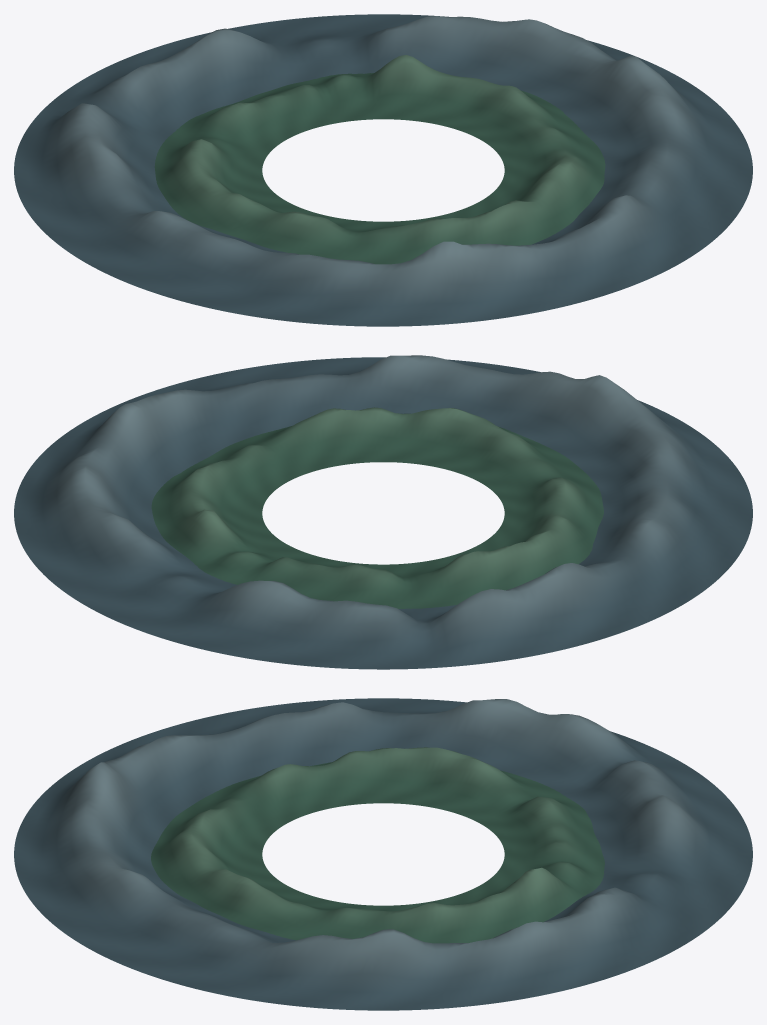
File: river-mountains-low.glb
3 views of the same model, one above another, from view 1: azimuth 30°, elevation 25°; view 2: azimuth 150°, elevation 25°; view 3: azimuth 270°, elevation 25° (orthographic).
Visible parts, largest first — view 1: Distant mountain ridgeline, Wooded mountain foothills; view 2: Distant mountain ridgeline, Wooded mountain foothills; view 3: Distant mountain ridgeline, Wooded mountain foothills.
Part boxes in pixels (x1=…): Distant mountain ridgeline: x1=14, y1=14, x2=752, y2=326; Wooded mountain foothills: x1=154, y1=55, x2=605, y2=264; Distant mountain ridgeline: x1=14, y1=355, x2=752, y2=669; Wooded mountain foothills: x1=151, y1=407, x2=603, y2=608; Distant mountain ridgeline: x1=14, y1=698, x2=752, y2=1010; Wooded mountain foothills: x1=151, y1=747, x2=604, y2=943.
Size of the model in its own units: 1330 by 104 by 1330.
